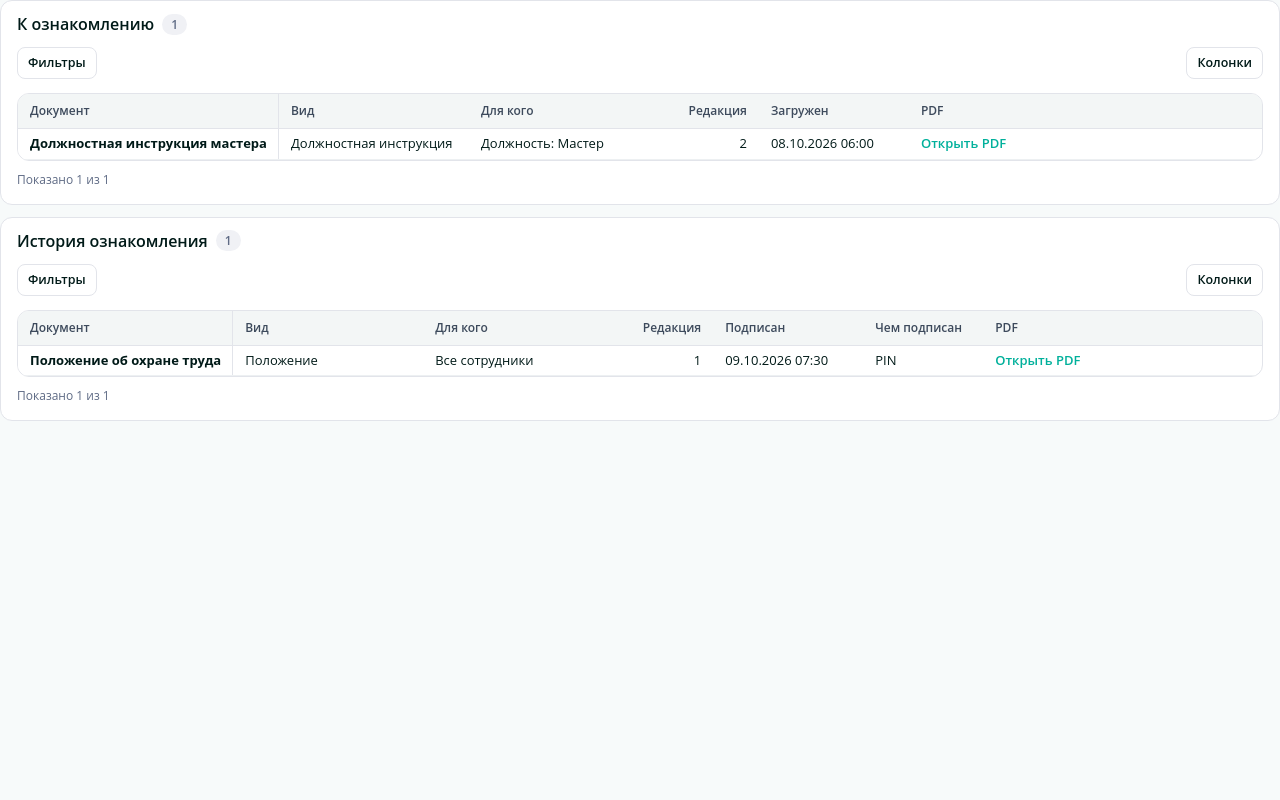
shows the too-many-attempts refusal (429) as is
Click the text "Должностная инструкция мастера". click: (148, 144)
box: [30, 135, 267, 153]
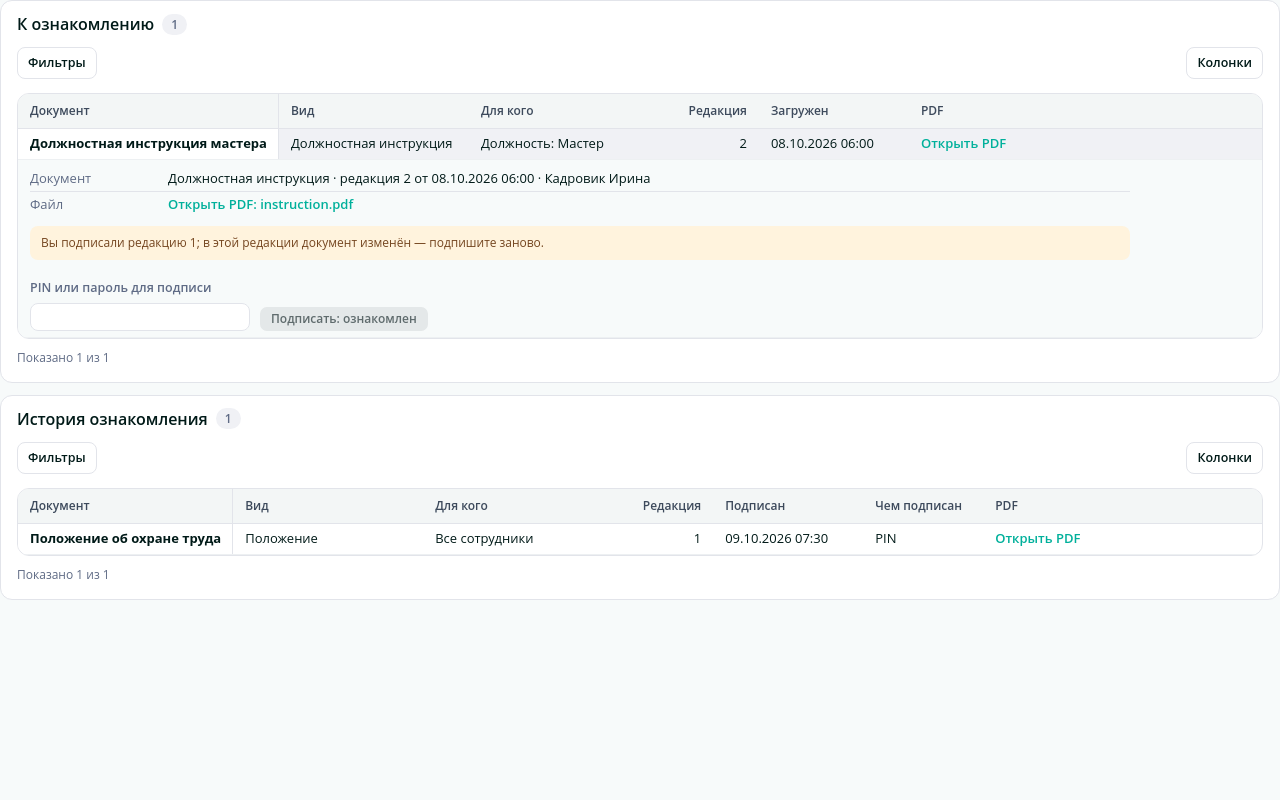
Type "1" into the password field labelled "PIN или пароль для подписи". click: (140, 317)
box: [30, 303, 250, 331]
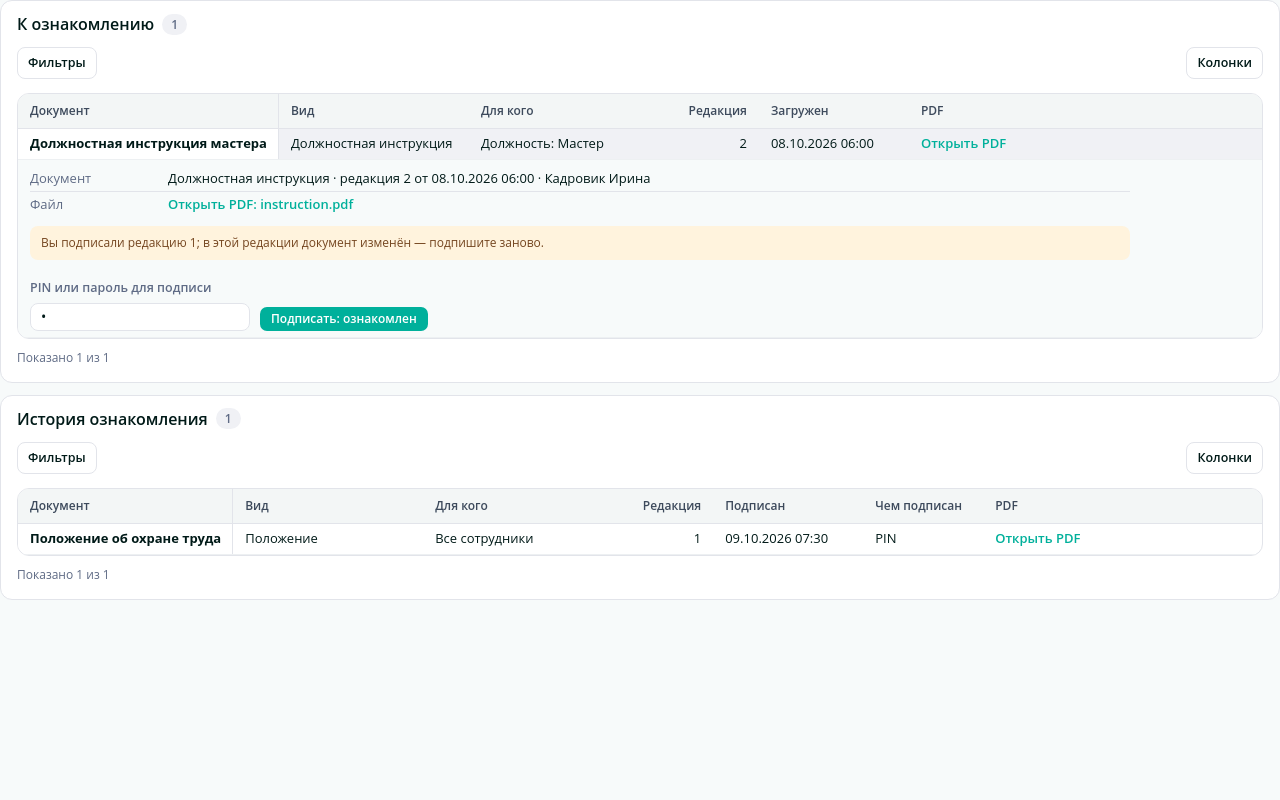
Click the button "Подписать: ознакомлен". click: (344, 319)
box: [260, 307, 428, 331]
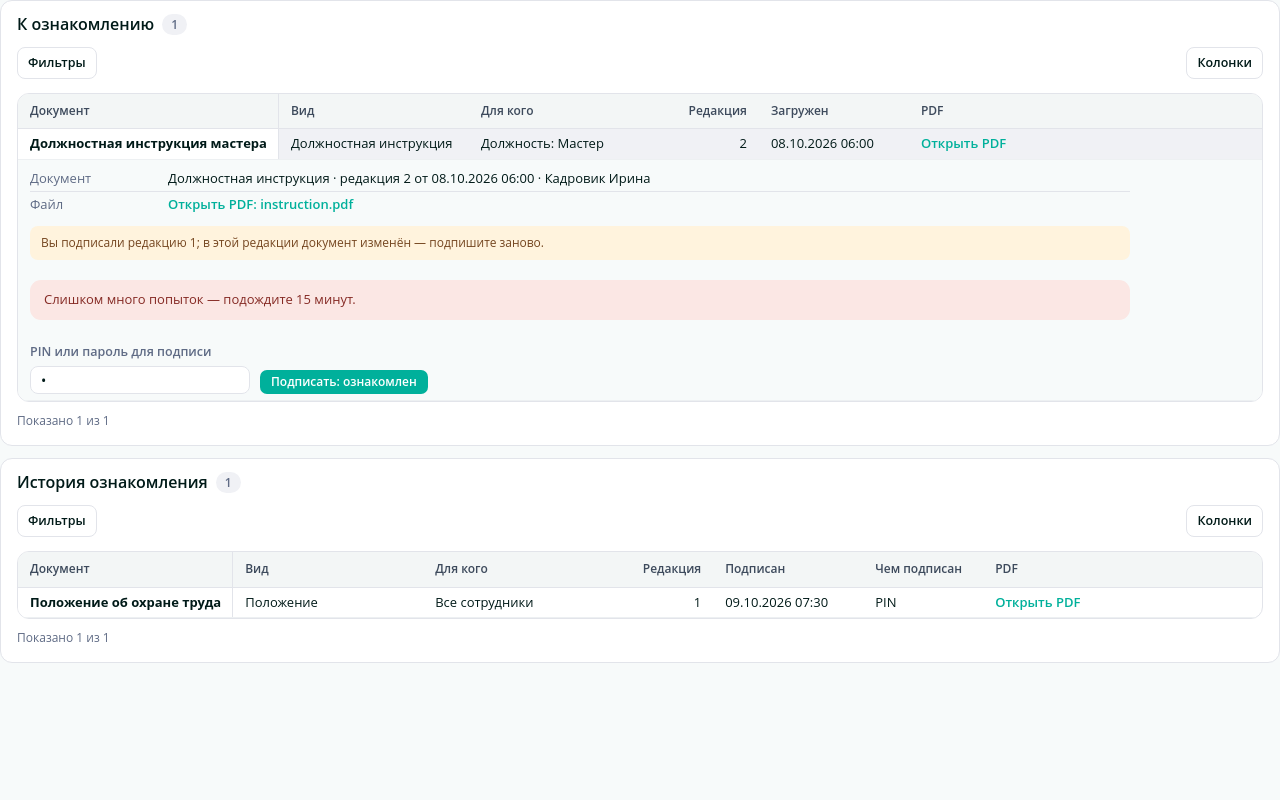
Check: the message reads "Слишком много попыток — подождите 15 минут.", box [44, 290, 356, 308]
